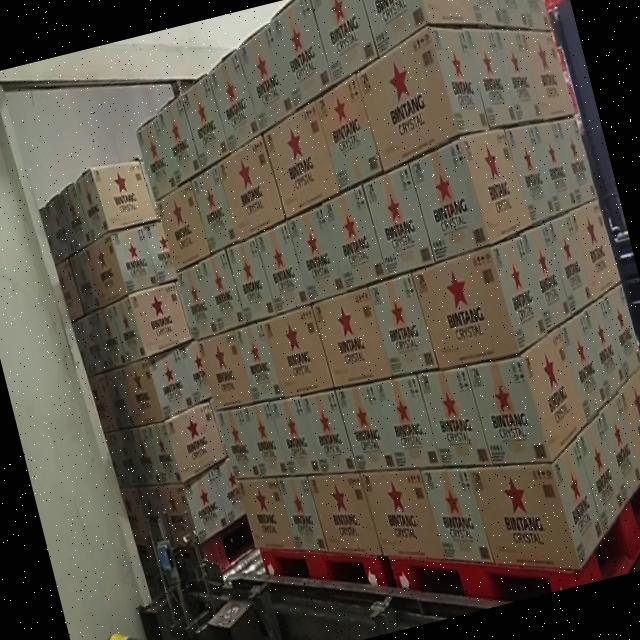pallet: (249, 0, 640, 629), (119, 41, 401, 640), (22, 136, 266, 608)
